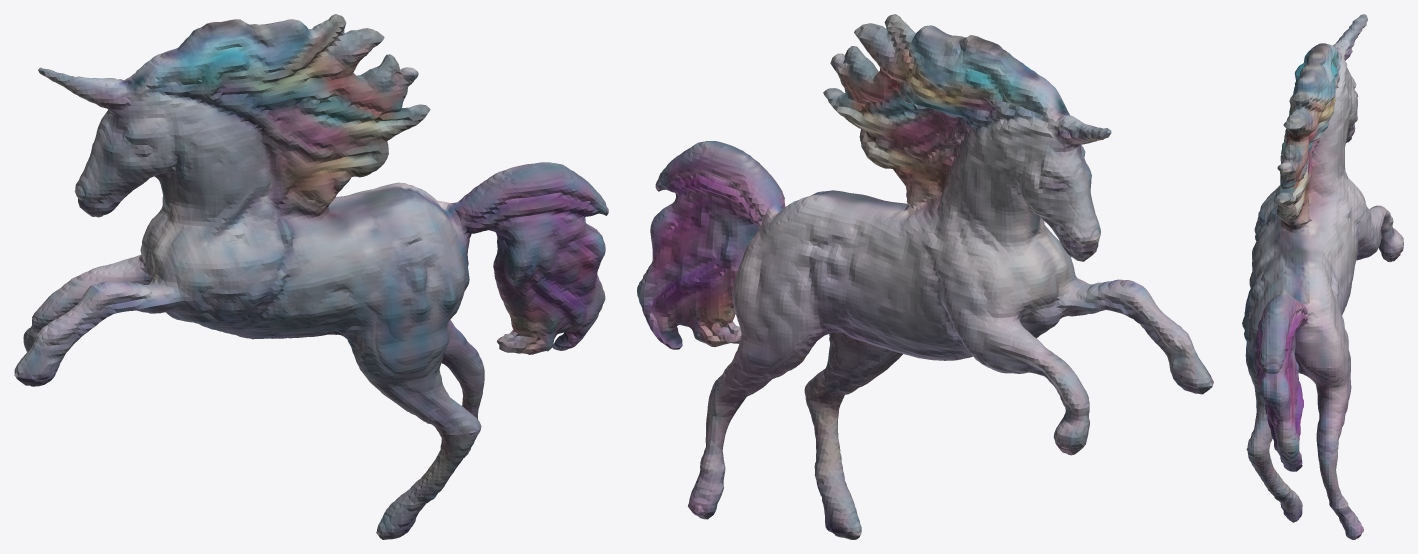
The model's file is unicon.glb.
3 renders of one model, left to right at view 1: azimuth 30°, elevation 25°; view 2: azimuth 150°, elevation 25°; view 3: azimuth 270°, elevation 25°, orthographic. The views are drawn at different scales.
Visible parts, largest first — view 1: world; view 2: world; view 3: world.
Boxes of the visible parts, box(x1,y1,x2,y2) form: world: box(14, 14, 608, 539); world: box(637, 14, 1213, 539); world: box(1242, 14, 1403, 539).
Size of the model in its own units: 1.07 by 0.9545 by 0.3388.
